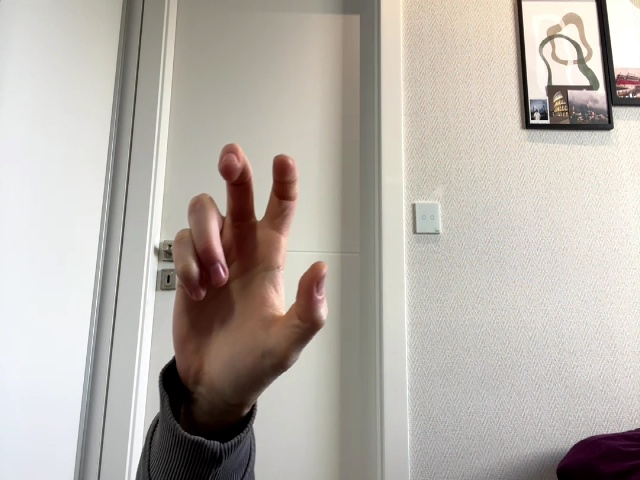CH: (172, 144, 328, 400)
